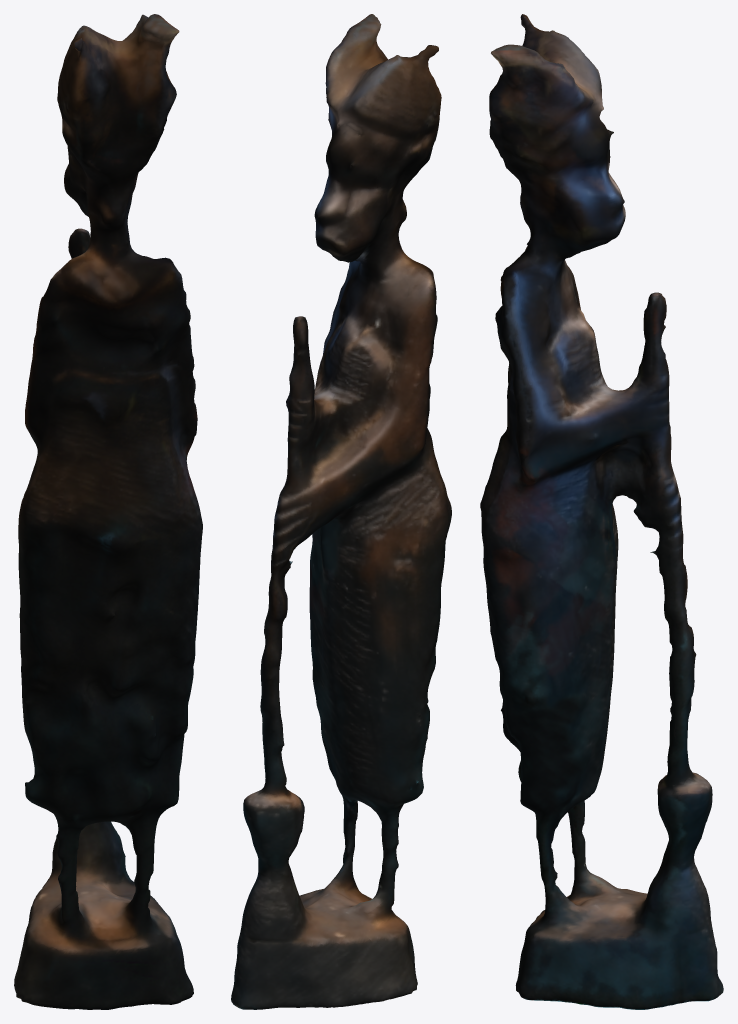
3 views of the same model, side by side, from view 1: azimuth 30°, elevation 25°; view 2: azimuth 150°, elevation 25°; view 3: azimuth 270°, elevation 25° (orthographic). The views are drawn at different scales.
Visible parts, largest first — view 1: cw_RCFINAL; view 2: cw_RCFINAL; view 3: cw_RCFINAL.
Part boxes in pixels (bbox=[...]): cw_RCFINAL: bbox=[14, 14, 202, 1009]; cw_RCFINAL: bbox=[231, 14, 451, 1009]; cw_RCFINAL: bbox=[480, 14, 723, 1009].
Bounding box in the file's own units: 36.83 × 202 × 47.49.
